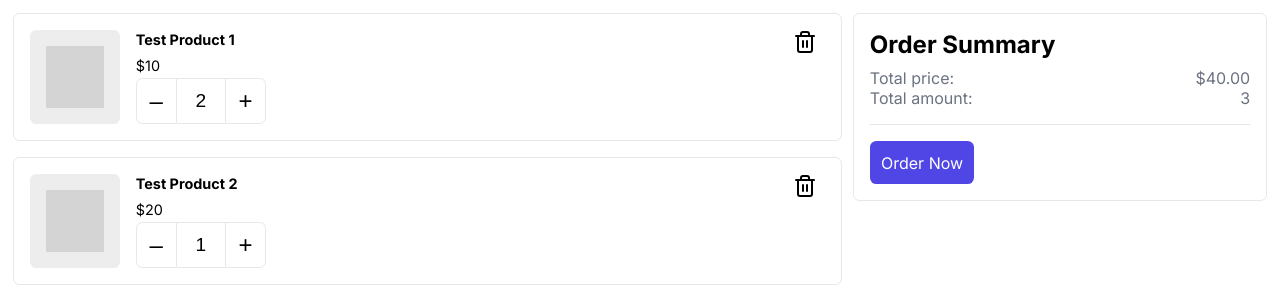
Cart component › should increment the amount of the product
Click the button named "Increase product".
click(246, 101)  # box x1=225 y1=78 x2=266 y2=124
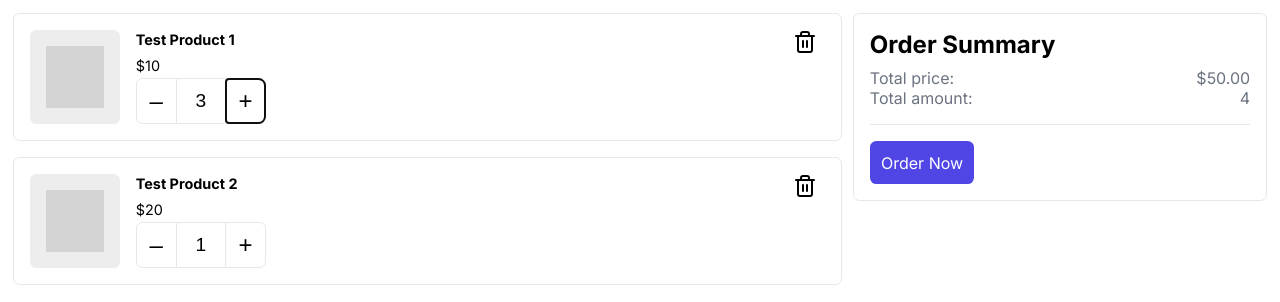
Now the number field below "10" holds "3", box x1=177 y1=78 x2=225 y2=124
Now the text "Total price: $50.00" is shown, box x1=870 y1=68 x2=1250 y2=88
Now the text "Total amount: 4" is shown, box x1=870 y1=88 x2=1250 y2=108
